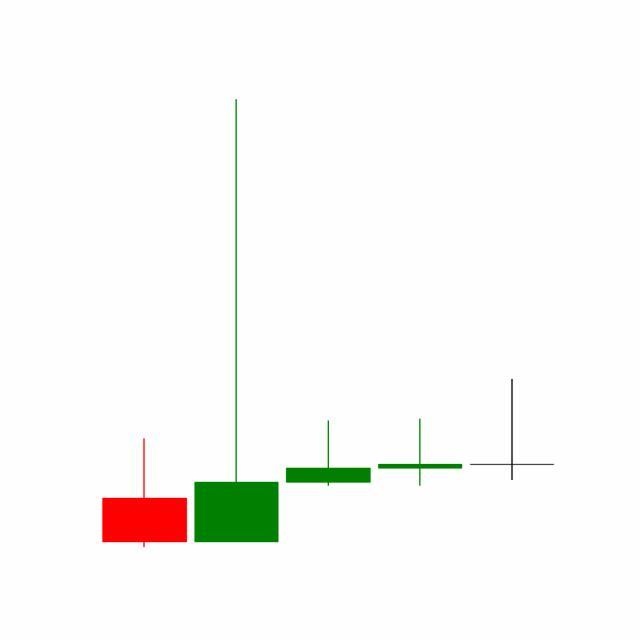Spinning Top: (374, 418, 468, 488)
